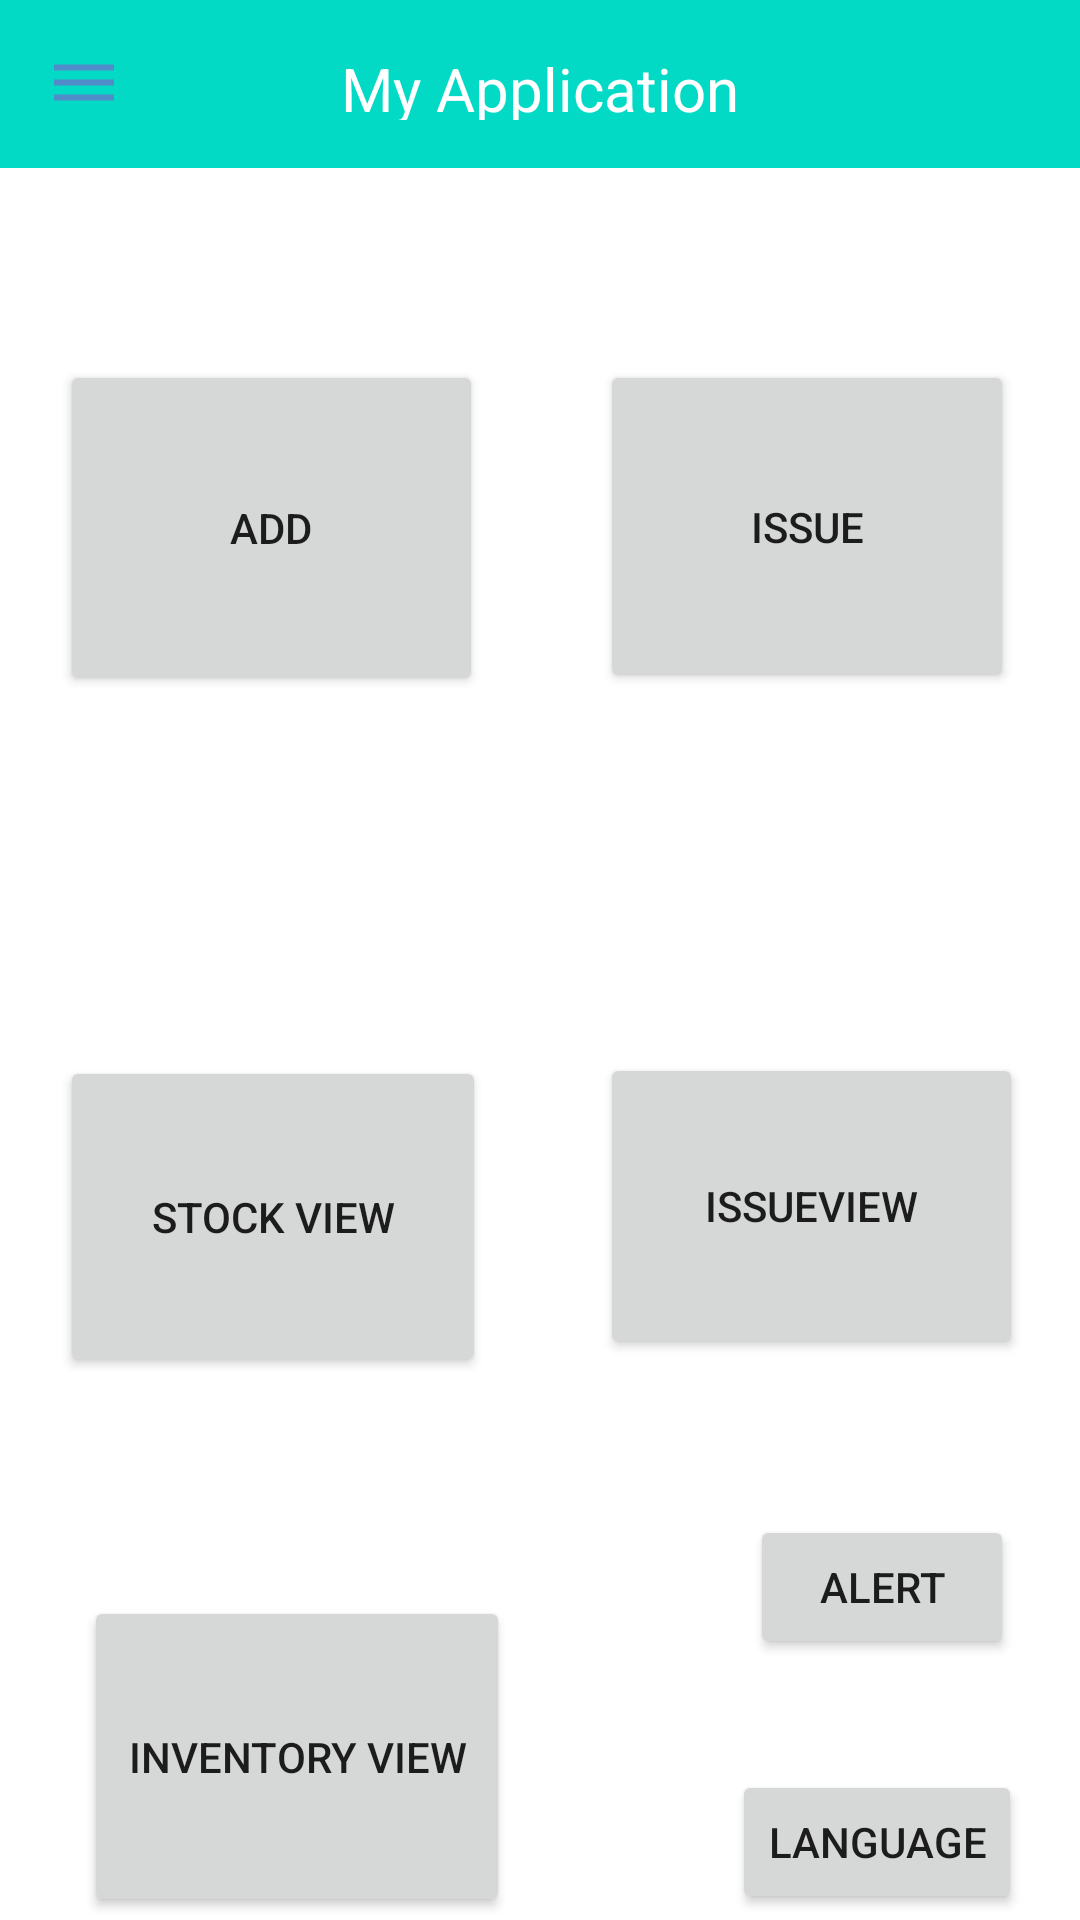

Named icons in this screenshot (1080x1920) and their bounding boxes, box(x1, y1, x2, y2):
menu: box(54, 64, 114, 101)
